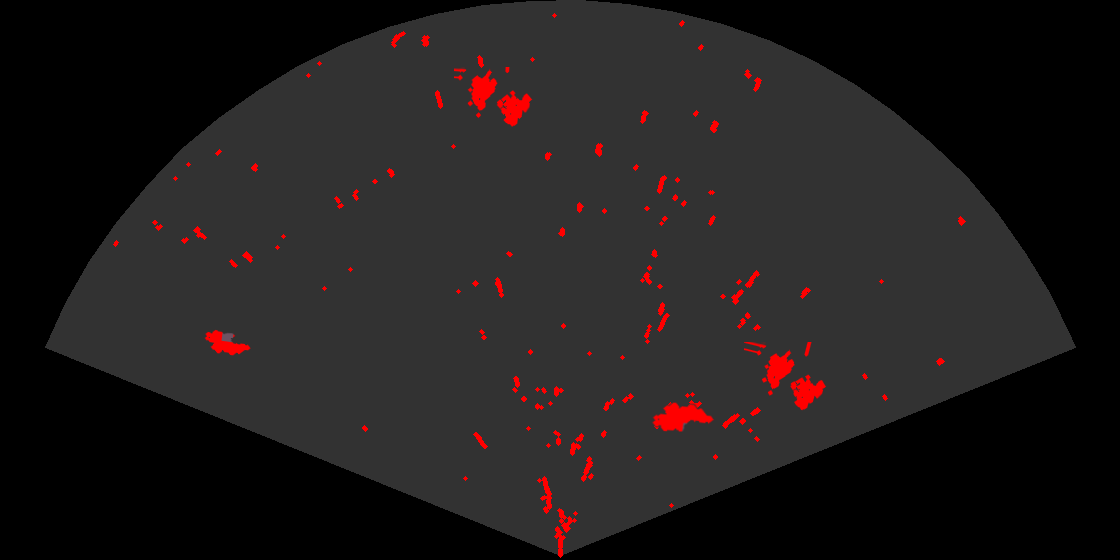AUV: (650, 401, 716, 433), (203, 328, 252, 357)
cage: (744, 342, 828, 412), (454, 67, 534, 128)
